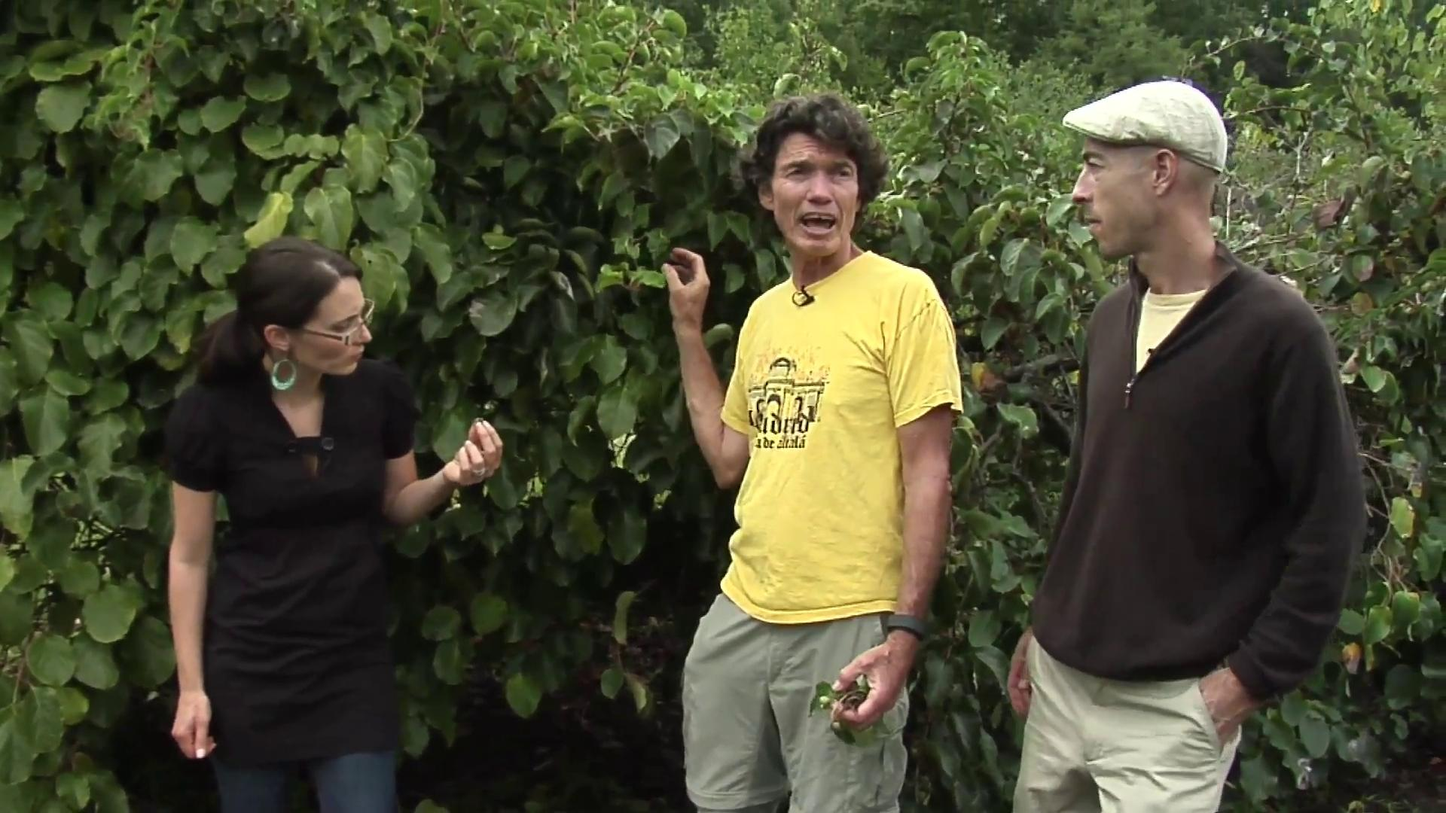victim: (1004, 81, 1376, 813), (663, 89, 967, 812), (159, 231, 511, 810)
